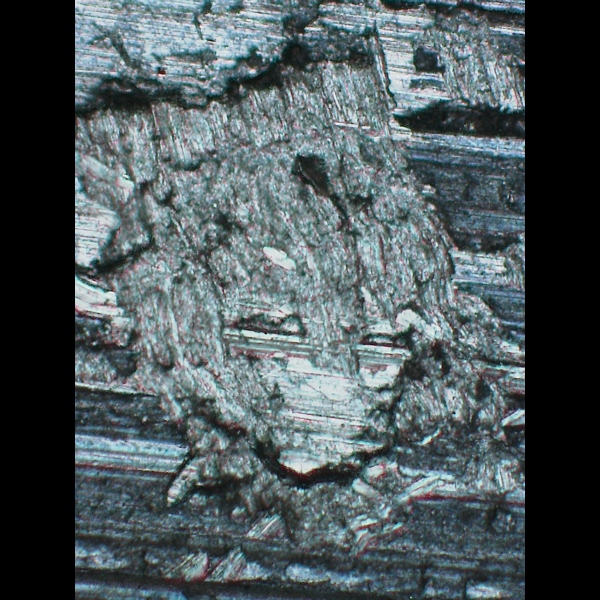d: (75, 2, 519, 592)
